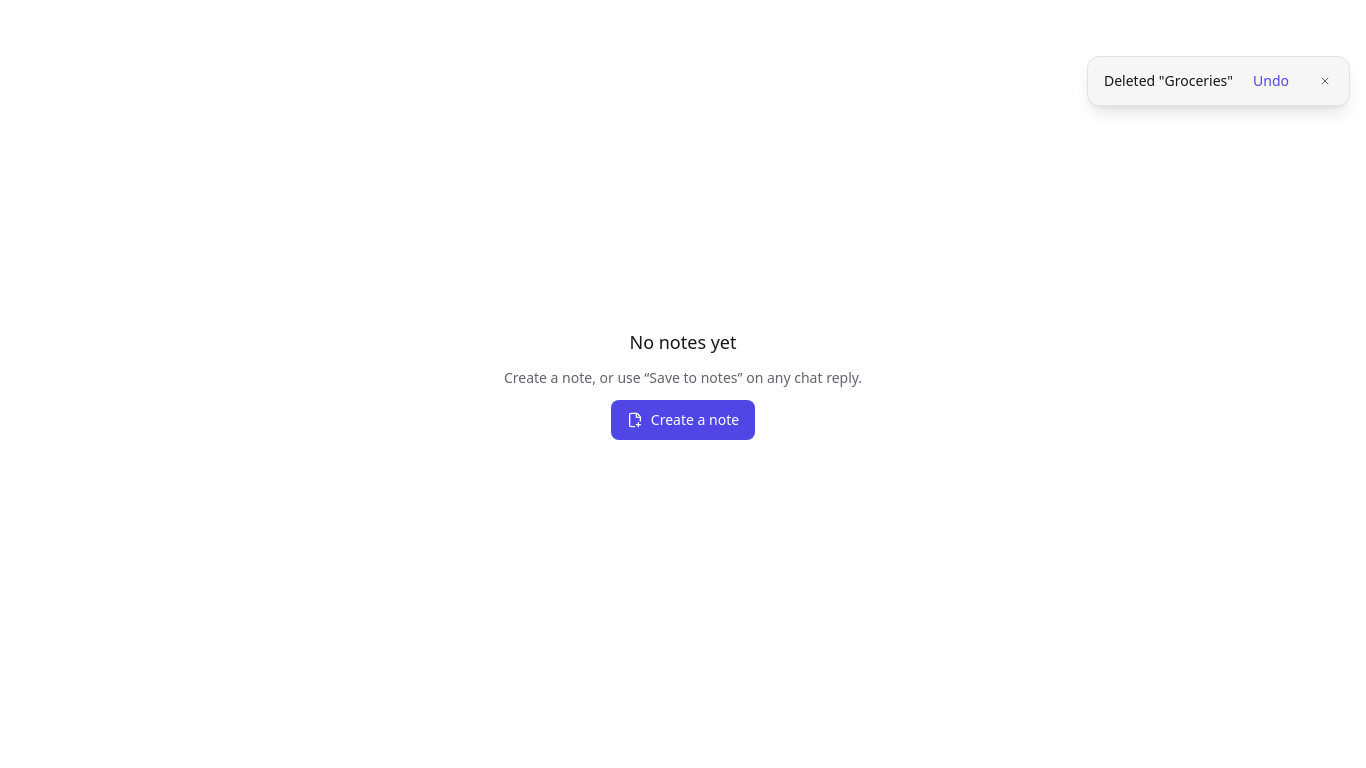
Test: NotesView › deletes a note and can undo it from the toast
This screenshot has width=1366, height=768.
Earlier steps of the test are not shown.
Expected: the heading "No notes yet" is shown, top-left (630, 328), bottom-right (736, 356)
What coordinates should you click on to do the following:
click the button "Undo"
I would click on:
 (1271, 81)
Its box is top-left (1245, 67), bottom-right (1297, 95).
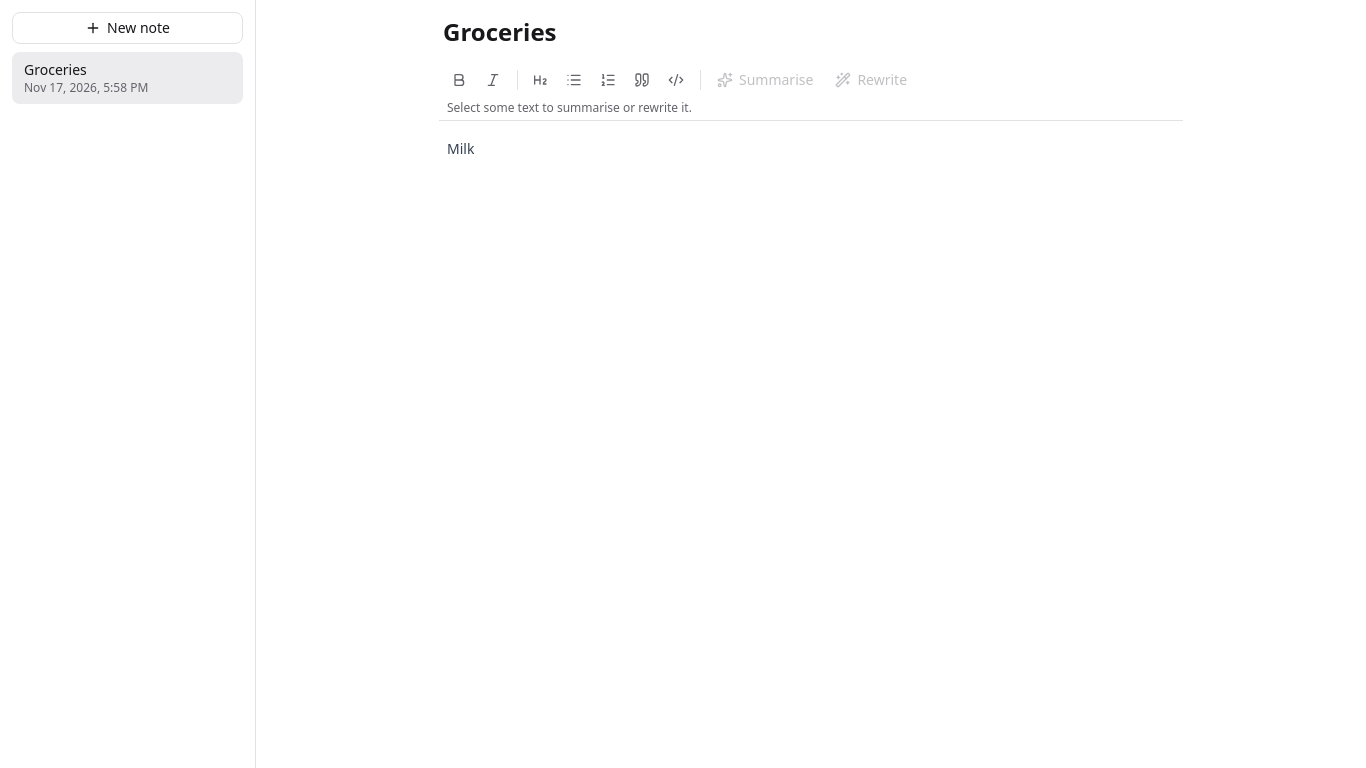
Now the button "Groceries Nov 17, 2026, 5:58 PM" is shown, box top-left (12, 52), bottom-right (243, 104)
